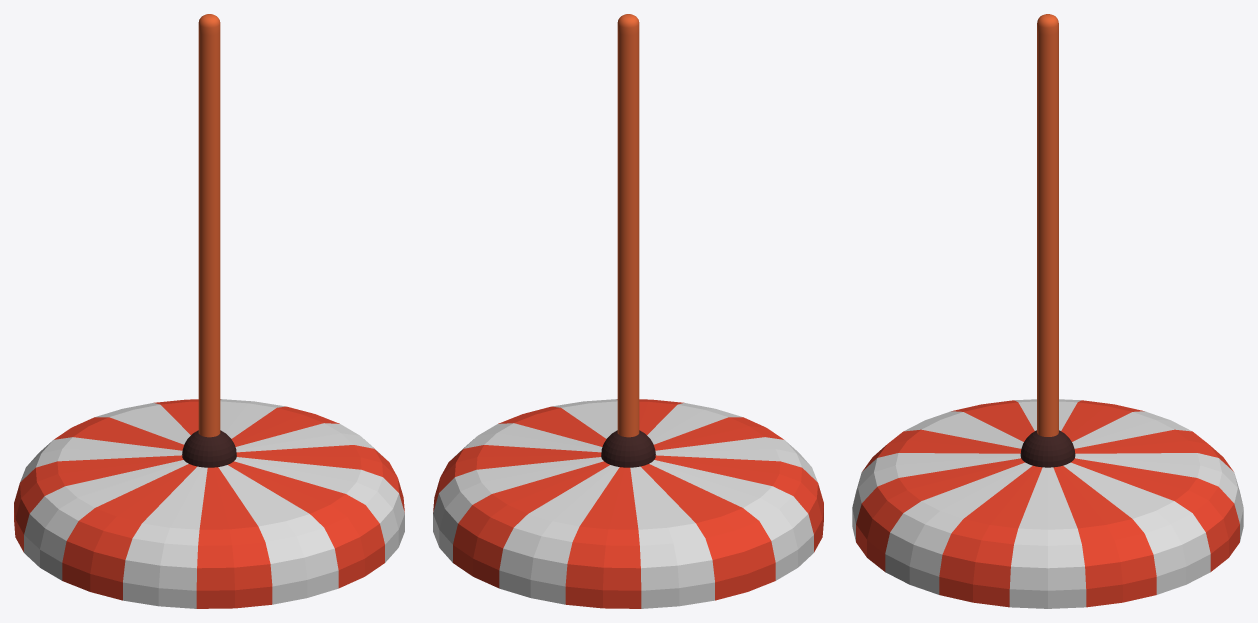
The model's file is stick.fbx.
The picture shows the model from 3 angles, left to right: view 1: azimuth 30°, elevation 25°; view 2: azimuth 150°, elevation 25°; view 3: azimuth 270°, elevation 25°; orthographic projection.
Parts seen in each view (by area): view 1: base, stick; view 2: base, stick; view 3: base, stick.
Part boxes in pixels (<box>): base: <box>14,399,404,608</box>; stick: <box>198,14,220,437</box>; base: <box>433,399,823,608</box>; stick: <box>617,14,639,437</box>; base: <box>852,399,1243,608</box>; stick: <box>1037,14,1058,436</box>.
Size of the model in its own units: 100 by 144 by 100.
